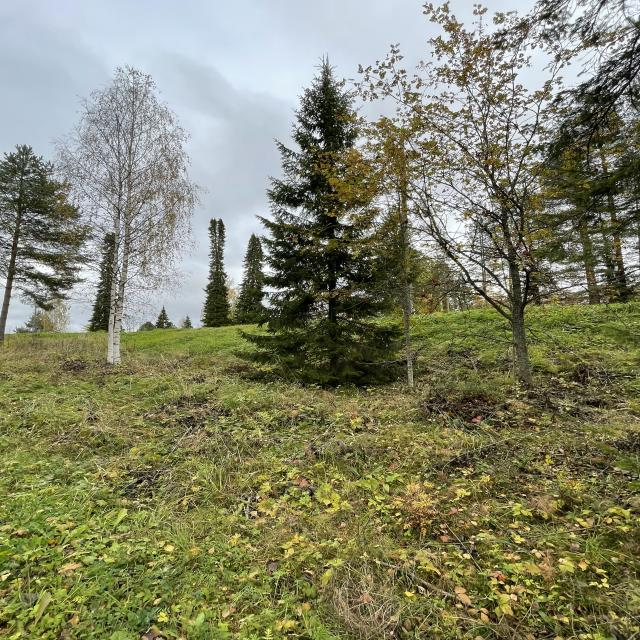spruce: (228, 44, 422, 393), (0, 119, 88, 337), (195, 203, 238, 332), (89, 218, 128, 338), (246, 224, 268, 326)
